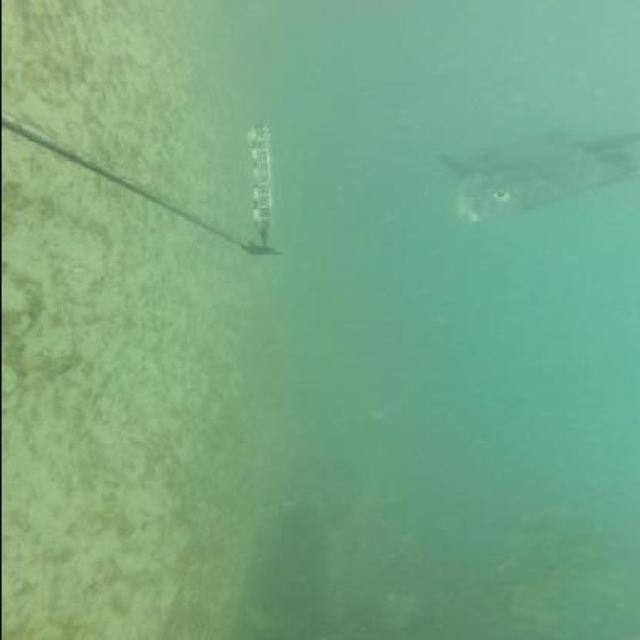acanthopagrus_palmaris: (434, 128, 640, 226)
